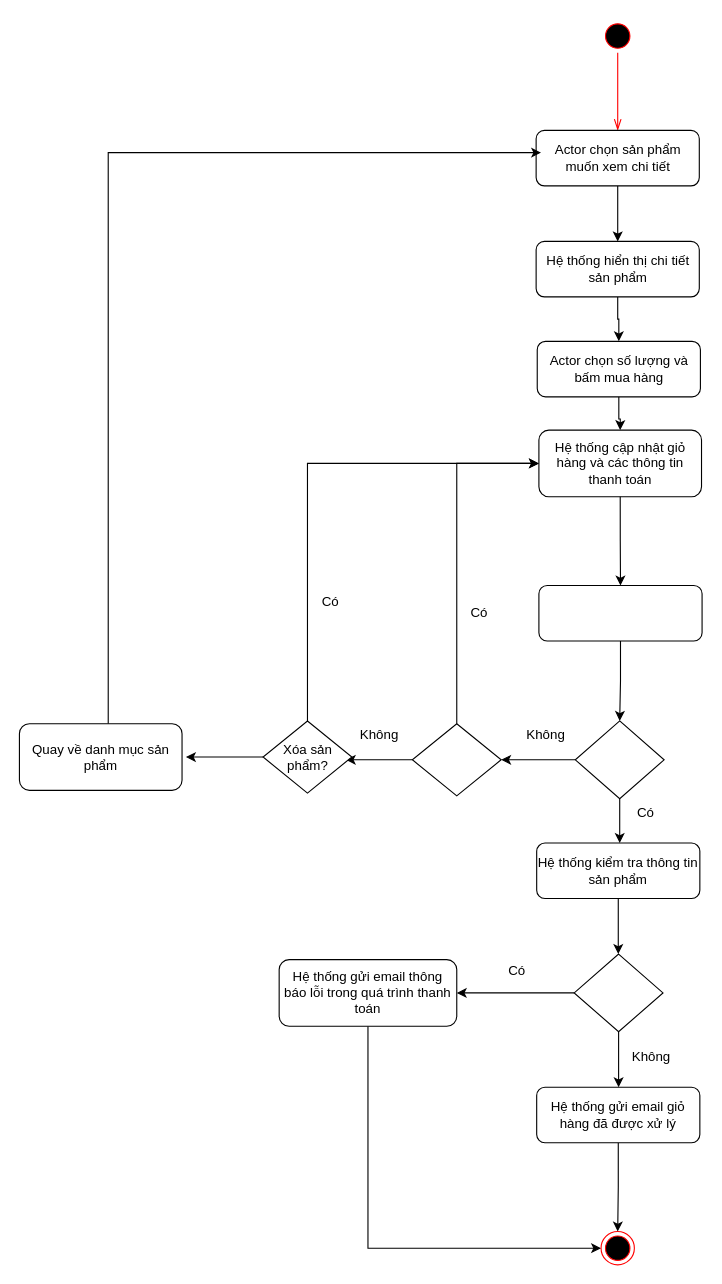
The diagram is 722 pixels wide and 1284 high, and some of its shapes have lost their labels. Here are the shapes that lost their labels. From the top down, the centre of each, then its label:
At (620,612): "Actor xem thông tin thanh toán, sản phẩm".
At (456,759): "Cập nhật số lượng ?".
At (619,759): "Thanh toán?".
At (618,992): "Có lỗi?".
